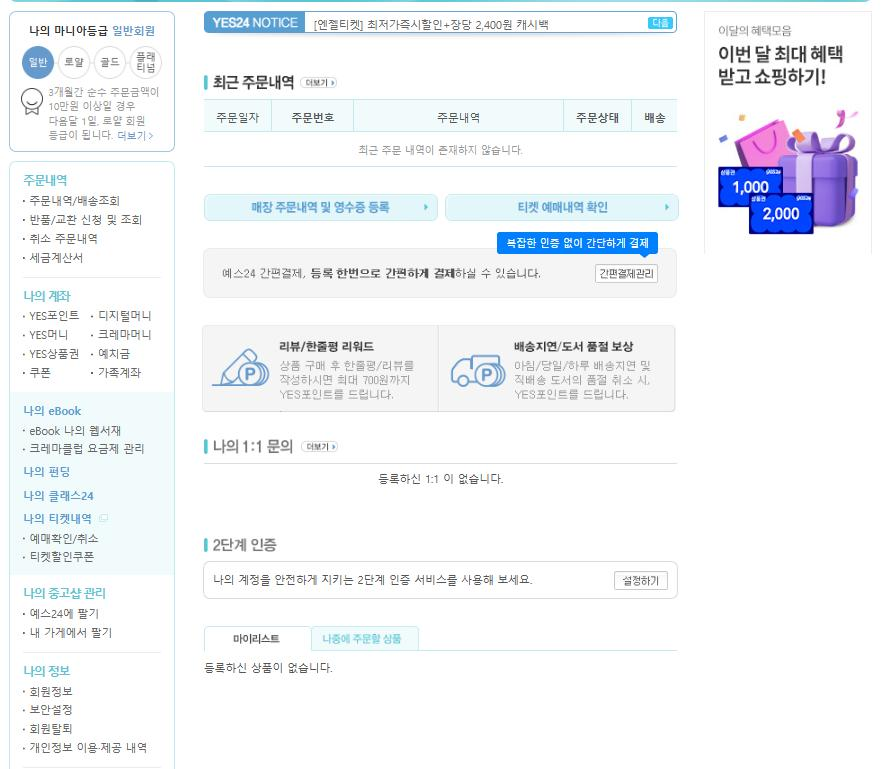button: (198, 188, 439, 230), (443, 186, 684, 224), (208, 619, 312, 657), (316, 622, 422, 659), (29, 740, 152, 763), (26, 440, 148, 461), (27, 185, 128, 208), (26, 211, 147, 230), (611, 563, 675, 598), (24, 416, 127, 436), (592, 261, 661, 290), (21, 509, 116, 527), (30, 625, 122, 643), (103, 121, 164, 148), (28, 604, 114, 623), (28, 231, 112, 250), (21, 485, 100, 505), (24, 341, 86, 363), (20, 552, 105, 568), (99, 365, 154, 389), (299, 433, 344, 460), (22, 532, 101, 547), (27, 250, 89, 269), (96, 306, 159, 324), (22, 463, 81, 482), (18, 325, 79, 343), (294, 72, 340, 95), (97, 327, 167, 342), (29, 720, 74, 740), (31, 362, 63, 389), (98, 347, 141, 365), (29, 683, 74, 700), (26, 310, 88, 322), (30, 702, 74, 718), (645, 17, 675, 32)
popup: (694, 10, 880, 261), (191, 231, 685, 302)
